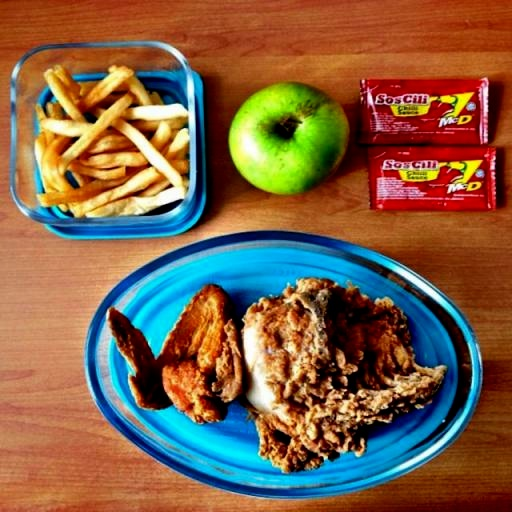fruit: (229, 83, 349, 194)
